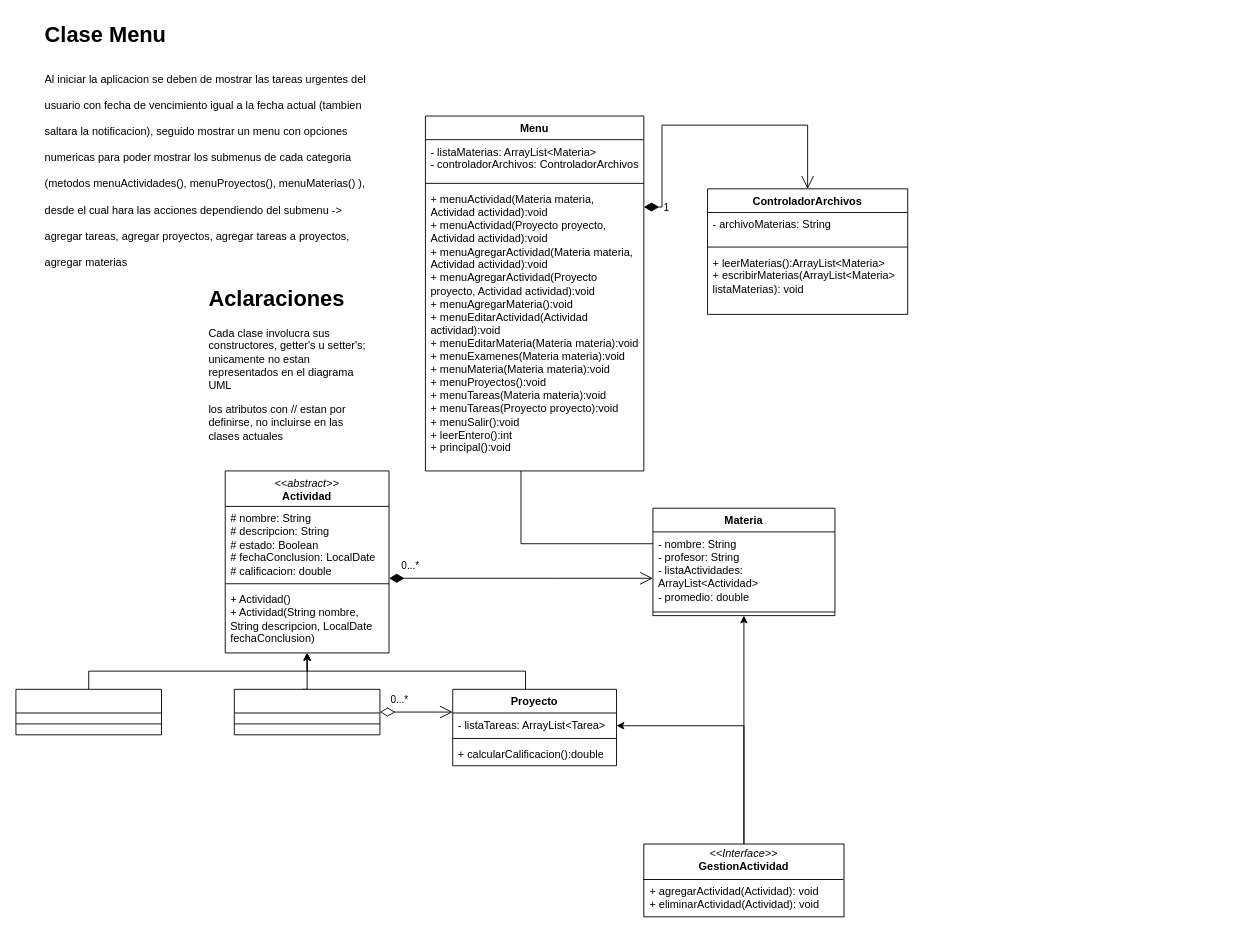
Some shapes in this 1233 by 933 pixel diagram are drawn without their labels. The shapes that lost their labels are listed below. From the top down, each one's centre as x and y in pixels, then its label:
At pixel 88 711: "Examen".
At pixel 306 711: "Tarea".
